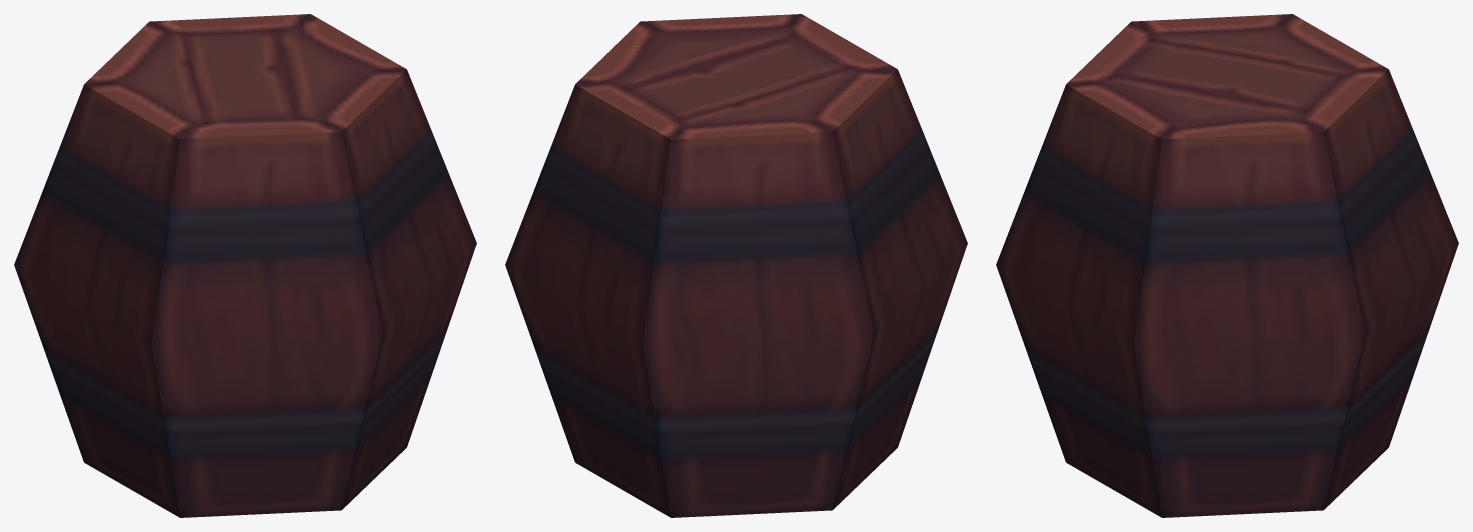
Rendered from 오크통.fbx.
The picture shows the model from 3 angles, left to right: view 1: azimuth 30°, elevation 25°; view 2: azimuth 150°, elevation 25°; view 3: azimuth 270°, elevation 25°; orthographic projection.
Visible parts, largest first — view 1: 오크통; view 2: 오크통; view 3: 오크통.
Part boxes in pixels (x1=…): 오크통: x1=14, y1=14, x2=476, y2=517; 오크통: x1=505, y1=14, x2=967, y2=517; 오크통: x1=996, y1=14, x2=1458, y2=517.
Bounding box in the file's own units: 1.45 × 1.41 × 1.57.
Materials: 1 (1 with a texture image).
